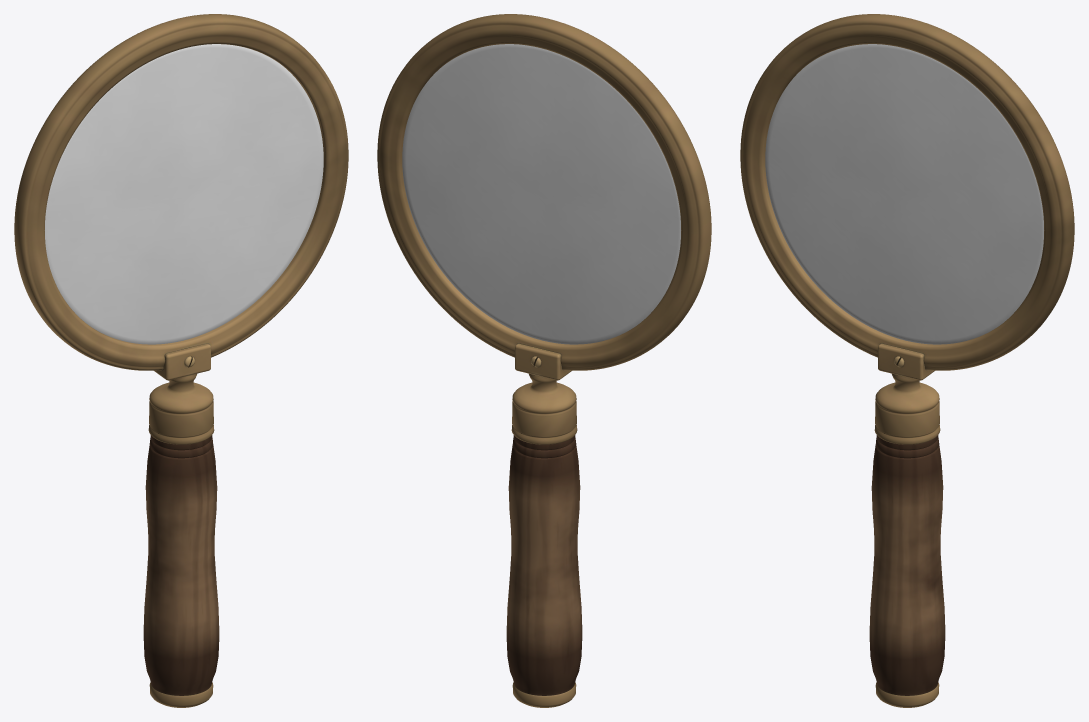
File: PH_Hand__Lens.fbx
3 renders of one model, left to right at view 1: azimuth 30°, elevation 25°; view 2: azimuth 150°, elevation 25°; view 3: azimuth 330°, elevation 25°, orthographic.
Parts seen in each view (by area): view 1: PH_Hand__Lens_Glass, PH_Hand__Lens; view 2: PH_Hand__Lens_Glass, PH_Hand__Lens; view 3: PH_Hand__Lens_Glass, PH_Hand__Lens.
Boxes of the visible parts, bbox=[...] form: PH_Hand__Lens_Glass: bbox=[45, 44, 323, 344]; PH_Hand__Lens: bbox=[14, 14, 348, 707]; PH_Hand__Lens_Glass: bbox=[402, 44, 680, 344]; PH_Hand__Lens: bbox=[377, 14, 711, 707]; PH_Hand__Lens_Glass: bbox=[765, 44, 1043, 344]; PH_Hand__Lens: bbox=[740, 14, 1074, 707].
Bounding box in the file's own units: 0.1357 × 0.2678 × 0.0271.
